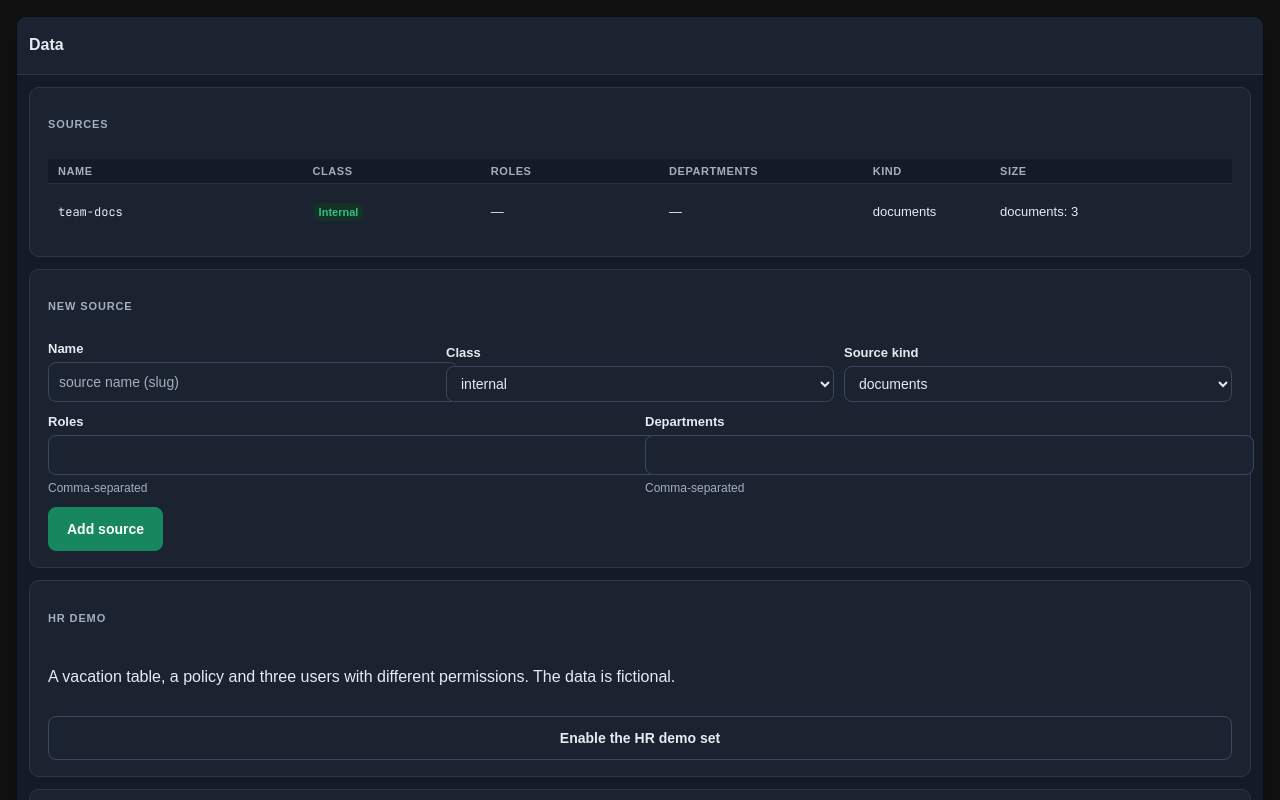
Test case: Data › shows the demo set passwords and refreshes the sources
This screenshot has width=1280, height=800.
Click the button "Enable the HR demo set" at (640, 738), box [48,716,1232,760]
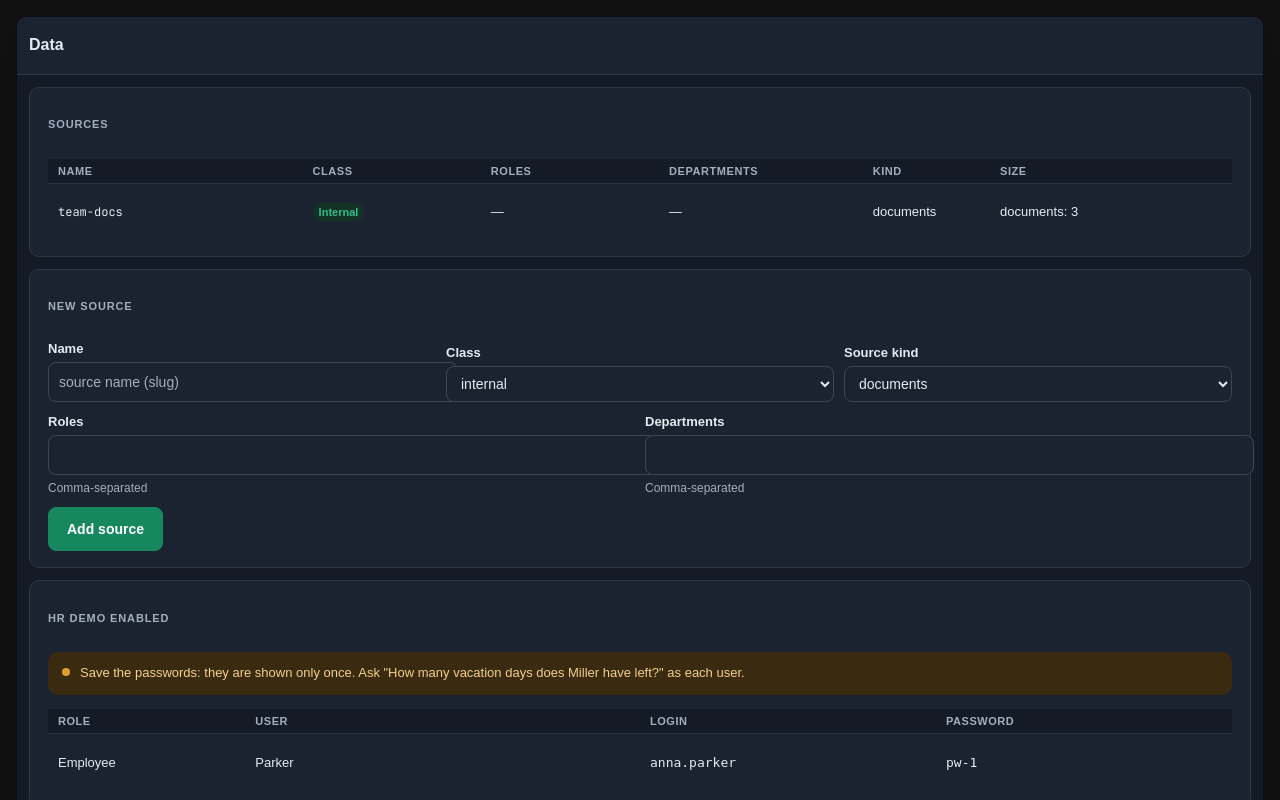
expect the text "pw-1" is shown: met, box [946,755,977,770]
expect the message shows "shown only once": met, box [80,665,745,680]
